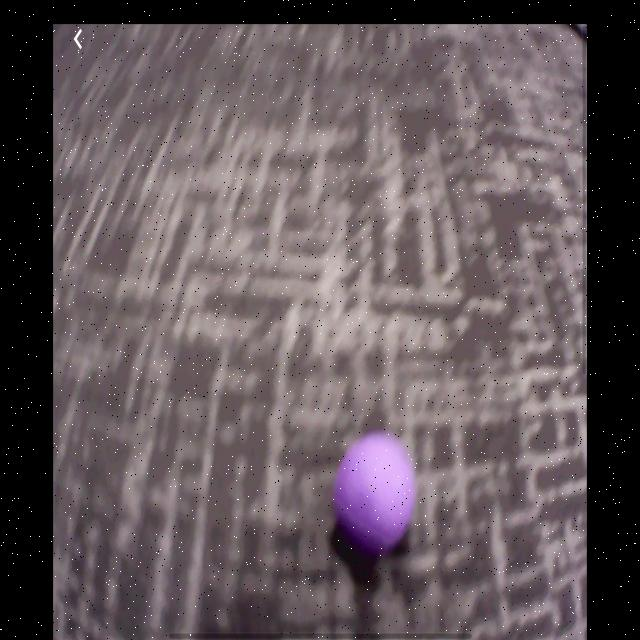ball: (338, 436, 416, 545)
